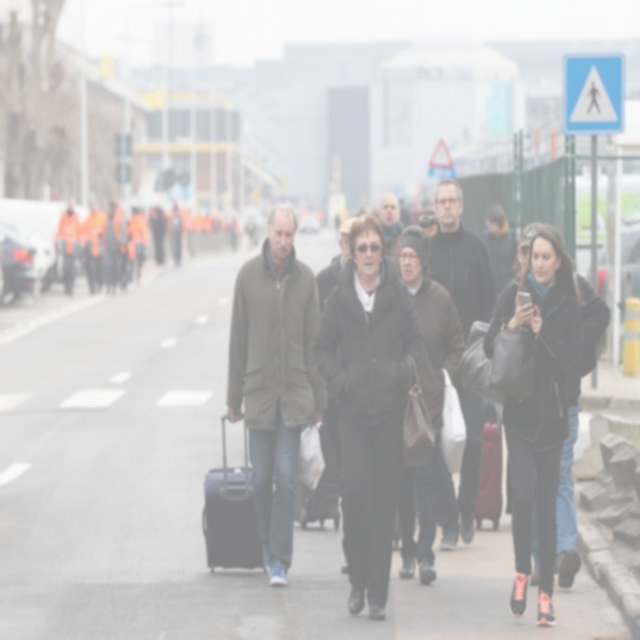pessoa: (313, 216, 438, 623), (487, 222, 611, 590), (480, 225, 590, 632), (223, 206, 330, 590), (422, 178, 500, 552), (393, 225, 463, 582), (312, 214, 369, 316), (480, 202, 522, 302), (182, 205, 260, 258), (81, 193, 107, 295), (54, 196, 78, 296), (378, 192, 404, 268), (125, 204, 148, 284), (105, 197, 124, 293), (167, 196, 185, 268), (148, 196, 166, 266), (584, 82, 604, 118), (416, 210, 441, 237), (334, 208, 347, 242), (356, 206, 381, 220)
